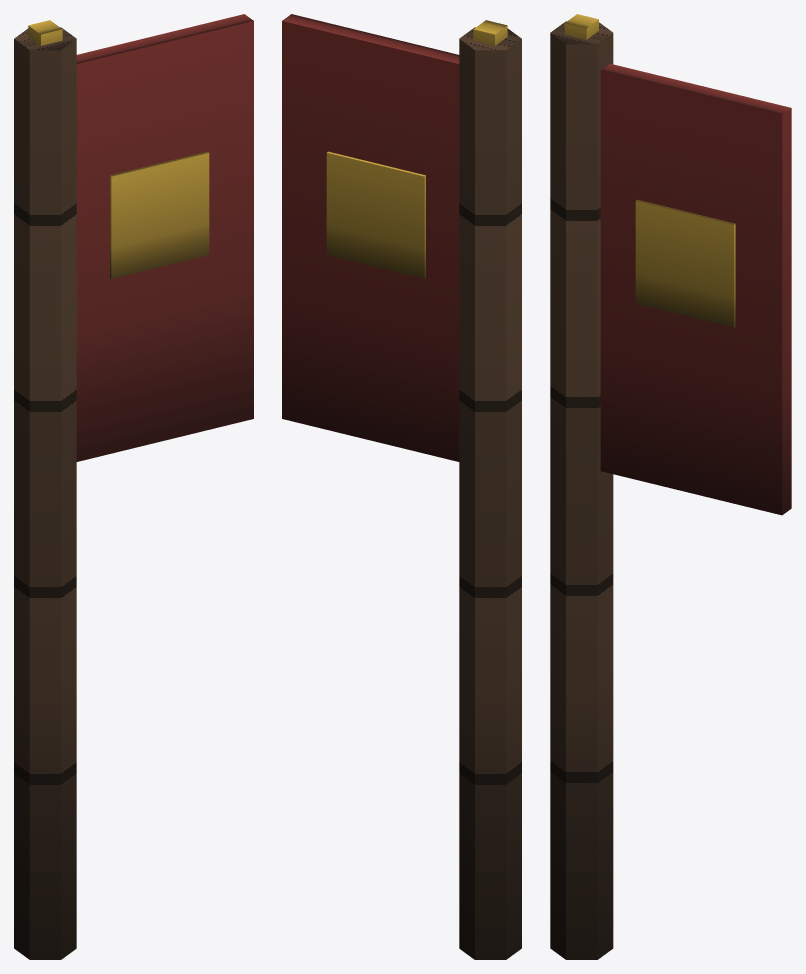
Rendered from banner.glb.
The picture shows the model from 3 angles, left to right: view 1: azimuth 30°, elevation 25°; view 2: azimuth 150°, elevation 25°; view 3: azimuth 330°, elevation 25°; orthographic projection.
Parts seen in each view (by area): view 1: banner; view 2: banner; view 3: banner.
Boxes of the visible parts, box(x1,y1,x2,y2) form: banner: box(14, 14, 253, 959); banner: box(282, 14, 521, 959); banner: box(550, 14, 791, 959).
Size of the model in its own units: 0.4183 by 1.62 by 0.1.
1 material, 1 textured.
